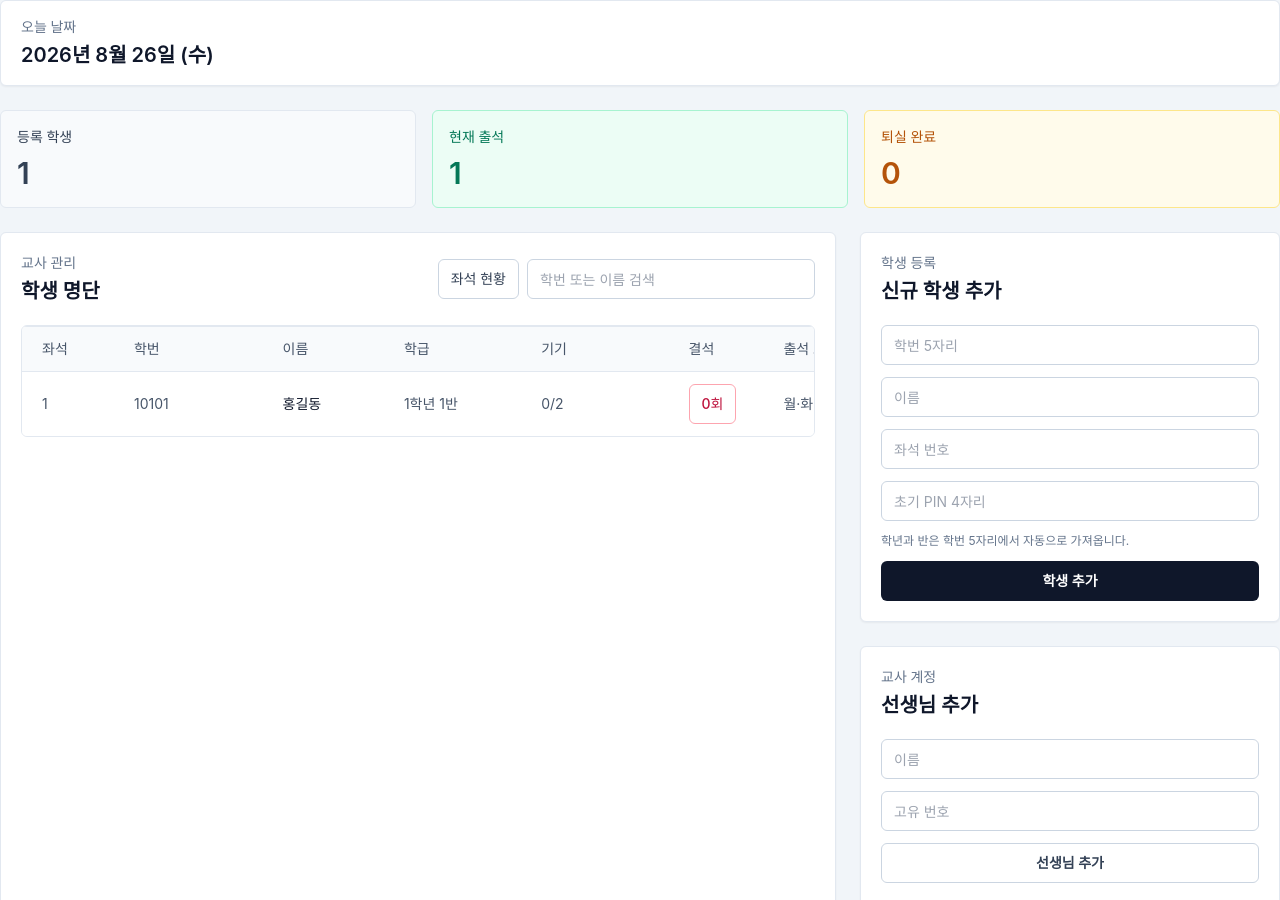
Test: teacher opens the seat map and sees the current student presence
Click the button "좌석 현황".
click(478, 279)  # box [438,259,519,299]
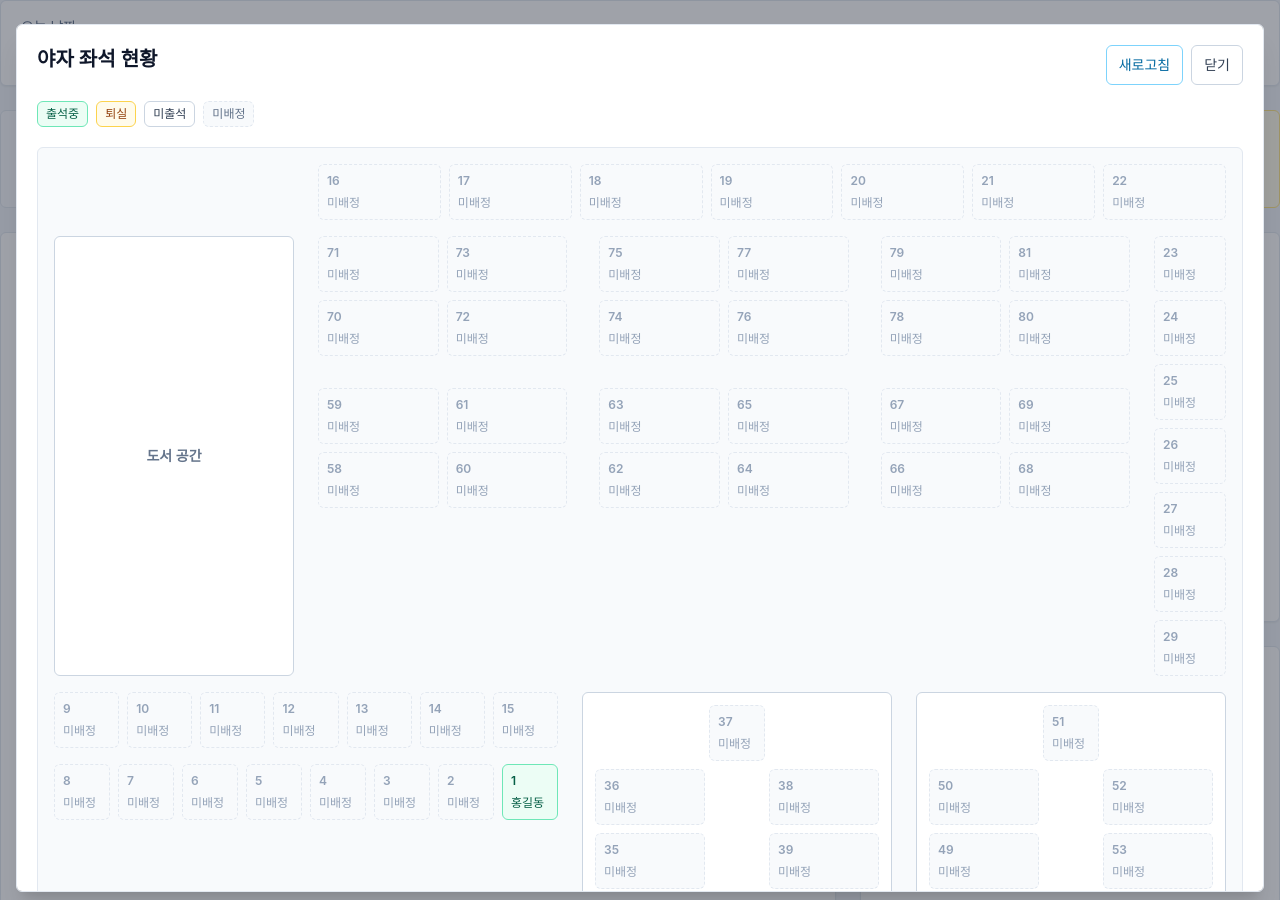
expect the list item with aria-label "1번 좌석, 홍길동, 출석중" is shown: met, box [502,764,558,820]
expect the button "새로고침" is enabled: met, box [1106,45,1183,85]
